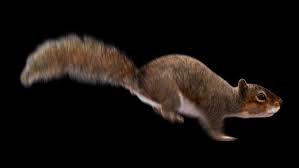squirrel: (21, 35, 283, 141)
